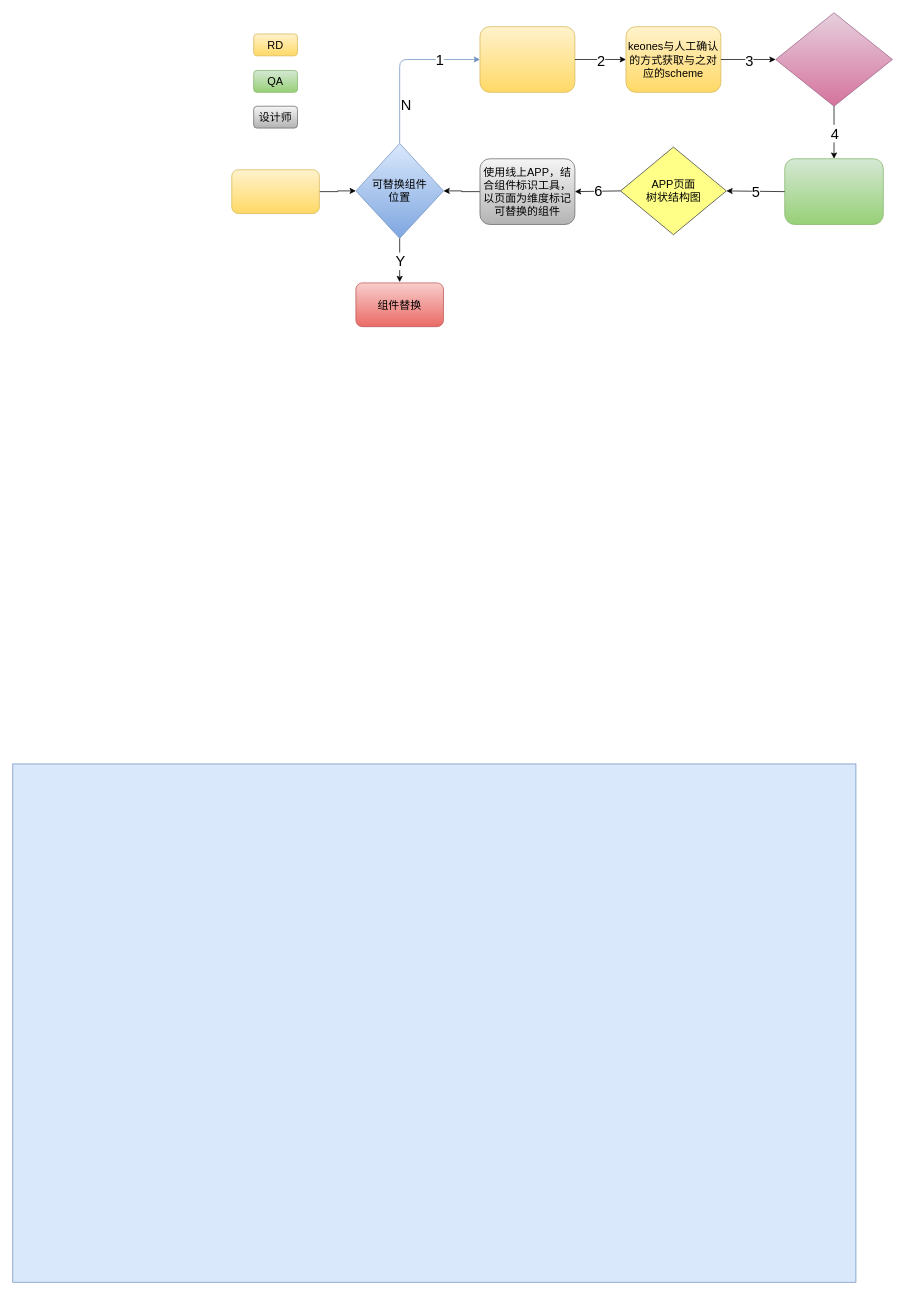
This 905x1295 diagram has some shape labels left out. The shapes that lost their labels are listed below. From the top down, each one's box as (x1, y1, x2, y2) in pixels, then its label:
(479, 26, 575, 92): 通过海神获取版本活跃页面vc列表
(775, 12, 892, 106): 页面与scheme 对应关系表
(231, 169, 319, 214): 替换组件
(784, 158, 883, 224): 自动化测试，输出 APP 全页面回归图谱
